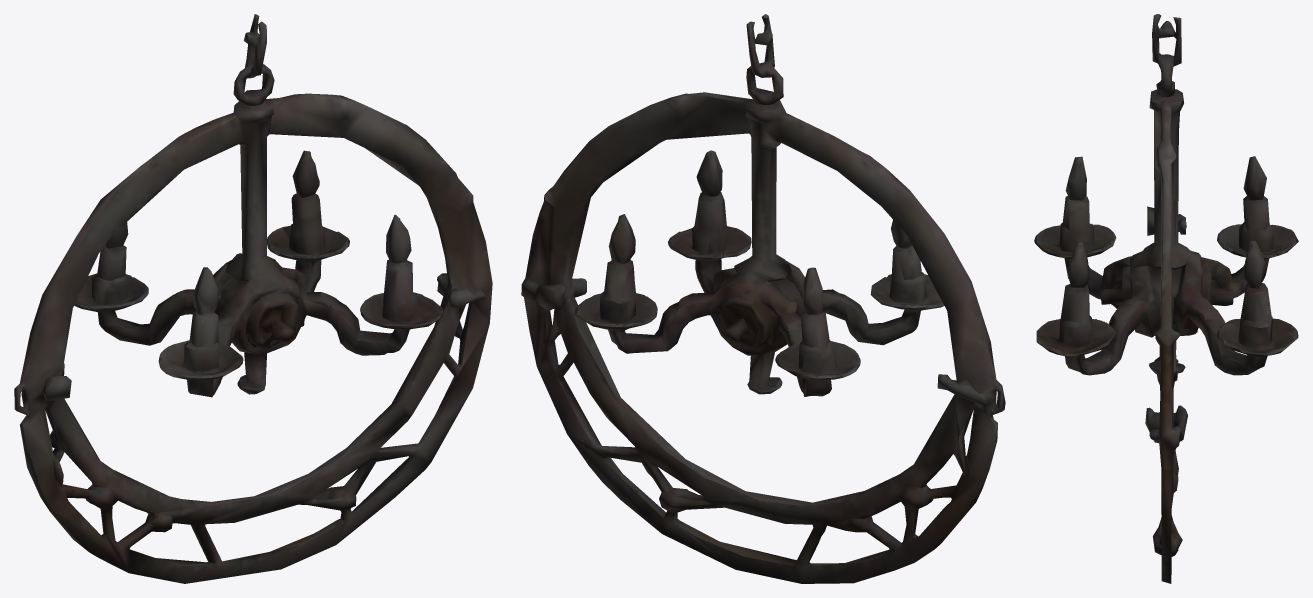
Rendered from sturdy-iron-chandelier-v001.glb.
The picture shows the model from 3 angles, left to right: view 1: azimuth 30°, elevation 25°; view 2: azimuth 150°, elevation 25°; view 3: azimuth 270°, elevation 25°; orthographic projection. The views are drawn at different scales.
Visible parts, largest first — view 1: sturdy-iron-chandelier; view 2: sturdy-iron-chandelier; view 3: sturdy-iron-chandelier.
Part boxes in pixels (box(x1,y1,x2,y2)): sturdy-iron-chandelier: box(14, 14, 492, 583); sturdy-iron-chandelier: box(521, 14, 1005, 583); sturdy-iron-chandelier: box(1034, 14, 1298, 583).
Size of the model in its own units: 1.11 by 1.24 by 0.5469.
Materials: 1 (1 with a texture image).
